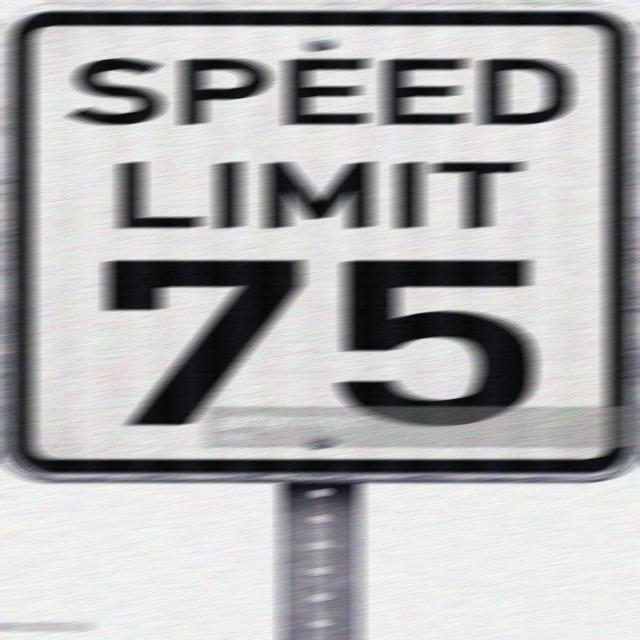speedLimit75: (0, 6, 638, 485)
